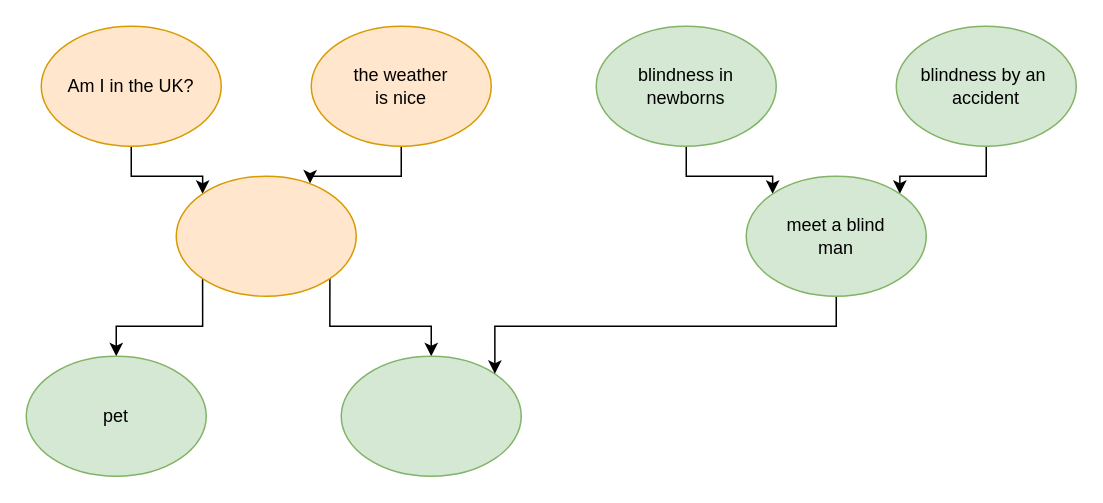
Image size: 1103x503. Some labels were removed from this diagram. Each missing label, with the centre of its shape:
guide dog: [430,415]
meet a LABRADOR: [265,235]
